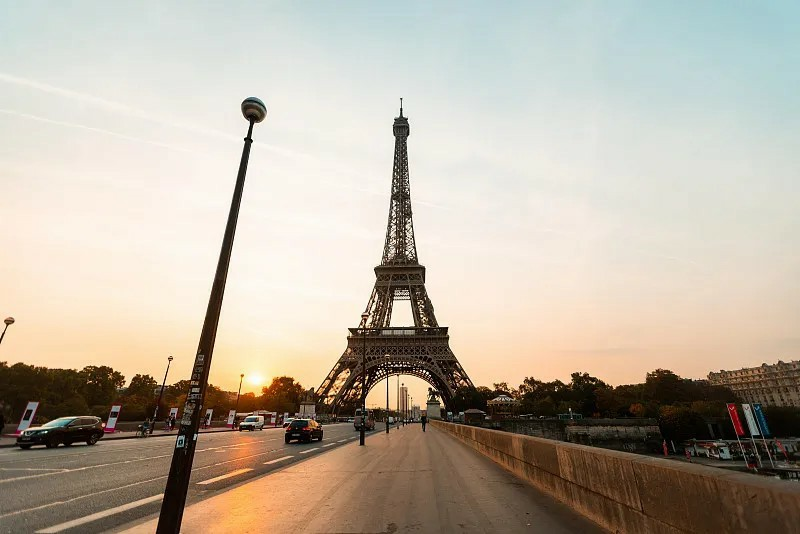Eiffel: (313, 97, 476, 419)
